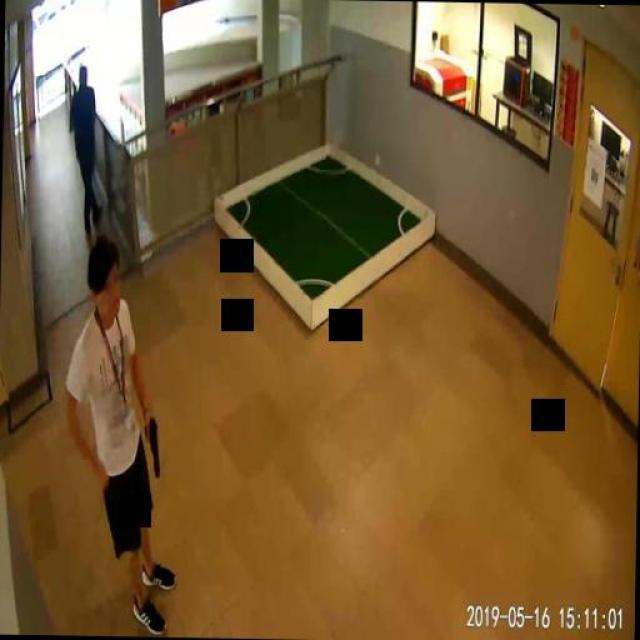gun: (142, 414, 160, 476)
